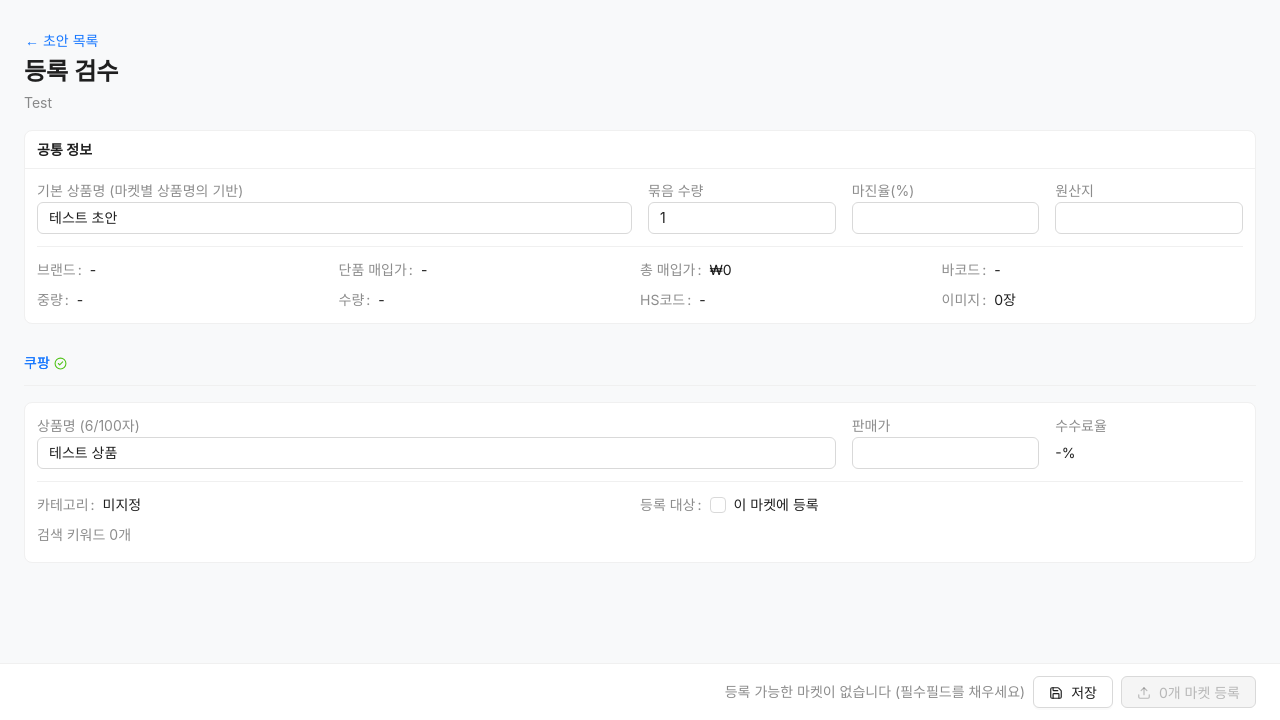
Scenario: 추천상품 초안 등록 대상 › 미선택 마켓을 선택하면 저장 전에도 등록 대상 수와 버튼이 갱신된다
The width and height of the screenshot is (1280, 720).
Check: the field showing "테스트 초안" below "기본 상품명 (마켓별 상품명의 기반)" is shown, box [37, 202, 632, 234]
Click the checkbox labelled "이 마켓에 등록".
click(768, 505)  # box [710, 494, 827, 516]
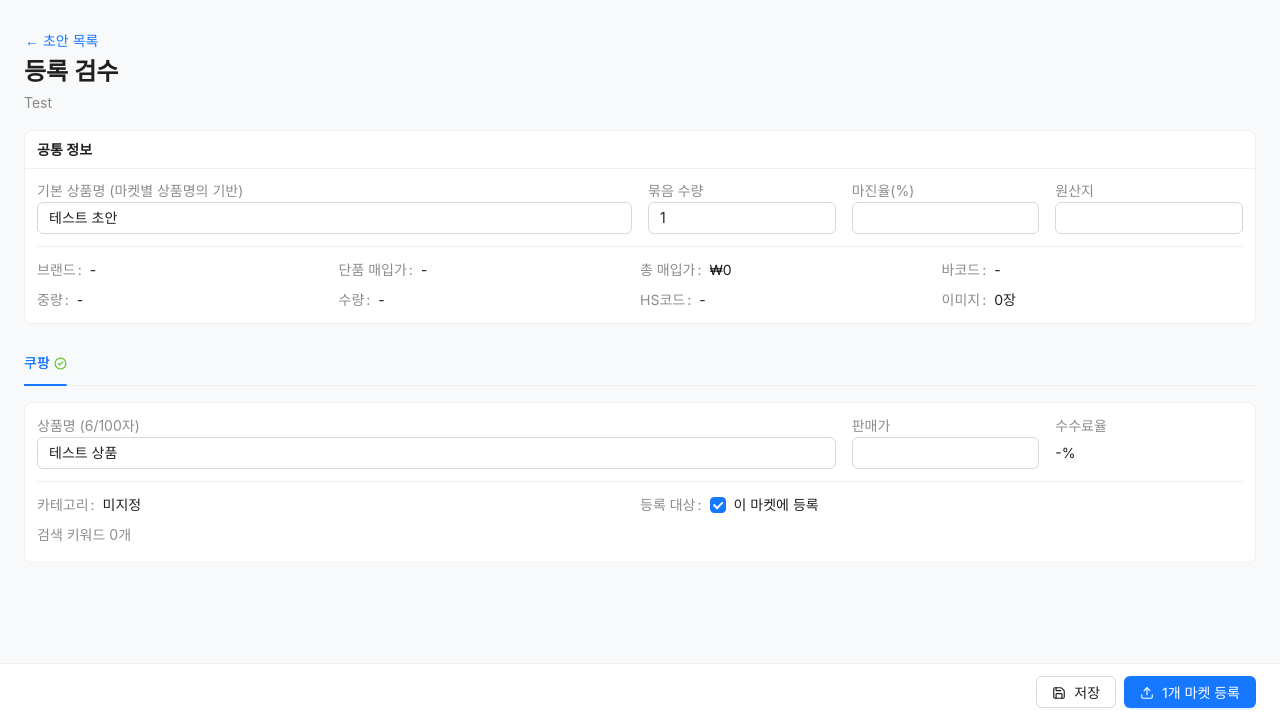
Check: the button "1개 마켓 등록" is enabled, box [1124, 676, 1256, 708]
